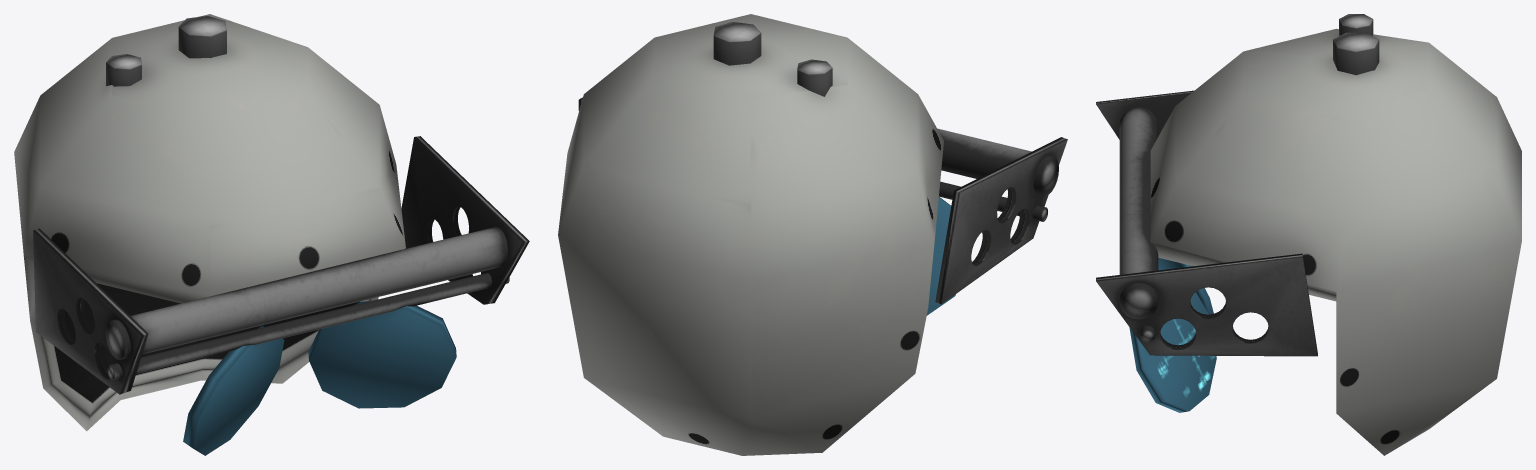
Rendered from Vital.gltf.
The picture shows the model from 3 angles, left to right: view 1: azimuth 30°, elevation 25°; view 2: azimuth 150°, elevation 25°; view 3: azimuth 270°, elevation 25°; orthographic projection. The views are drawn at different scales.
Parts seen in each view (by area): view 1: pSphere1, pCylinder6, pCylinder9, pCylinder10, pCylinder7, pCylinder8; view 2: pSphere1, pCylinder6, pCylinder7, pCylinder10, pCylinder8; view 3: pSphere1, pCylinder6, pCylinder9, pCylinder7, pCylinder8, pCylinder10.
Part boxes in pixels (bbox=[...]): pSphere1: bbox=[14, 14, 405, 431]; pCylinder6: bbox=[33, 136, 529, 394]; pCylinder9: bbox=[308, 301, 456, 408]; pCylinder10: bbox=[183, 325, 284, 455]; pCylinder7: bbox=[178, 16, 226, 58]; pCylinder8: bbox=[106, 54, 141, 86]; pSphere1: bbox=[558, 14, 943, 455]; pCylinder6: bbox=[578, 97, 1067, 304]; pCylinder7: bbox=[713, 22, 761, 65]; pCylinder10: bbox=[926, 197, 955, 315]; pCylinder8: bbox=[797, 59, 832, 96]; pSphere1: bbox=[1150, 28, 1521, 455]; pCylinder6: bbox=[1096, 90, 1317, 356]; pCylinder9: bbox=[1129, 292, 1216, 412]; pCylinder7: bbox=[1333, 32, 1379, 75]; pCylinder8: bbox=[1339, 14, 1373, 35]; pCylinder10: bbox=[1158, 257, 1213, 314].
Size of the model in its own units: 2.02 by 1.91 by 1.99.
1 material, 1 textured.
